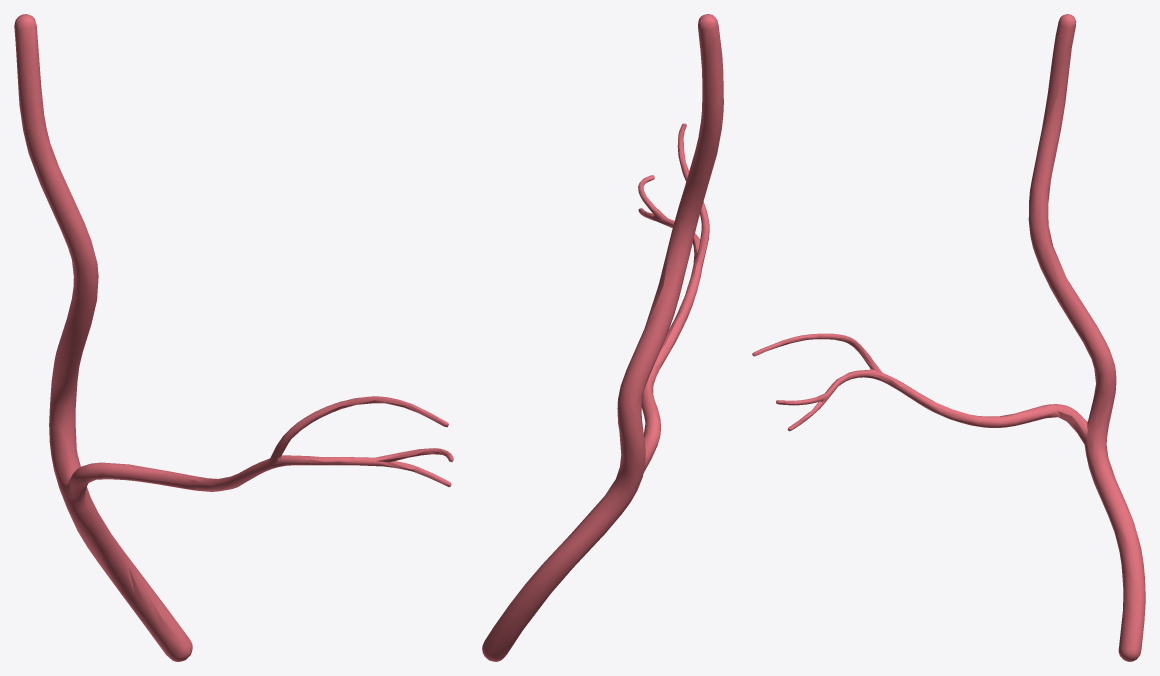
The model's file is fma79429_fj5197.glb.
3 views of the same model, side by side, from view 1: azimuth 30°, elevation 25°; view 2: azimuth 150°, elevation 25°; view 3: azimuth 270°, elevation 25° (orthographic). The views are drawn at different scales.
Parts seen in each view (by area): view 1: FMA79429_FJ5197; view 2: FMA79429_FJ5197; view 3: FMA79429_FJ5197.
Part boxes in pixels (box(x1,y1,x2,y2)): FMA79429_FJ5197: box(14, 14, 453, 661); FMA79429_FJ5197: box(482, 14, 723, 661); FMA79429_FJ5197: box(752, 14, 1145, 661).
Size of the model in its own units: 0.0311 by 0.0821 by 0.0512.
